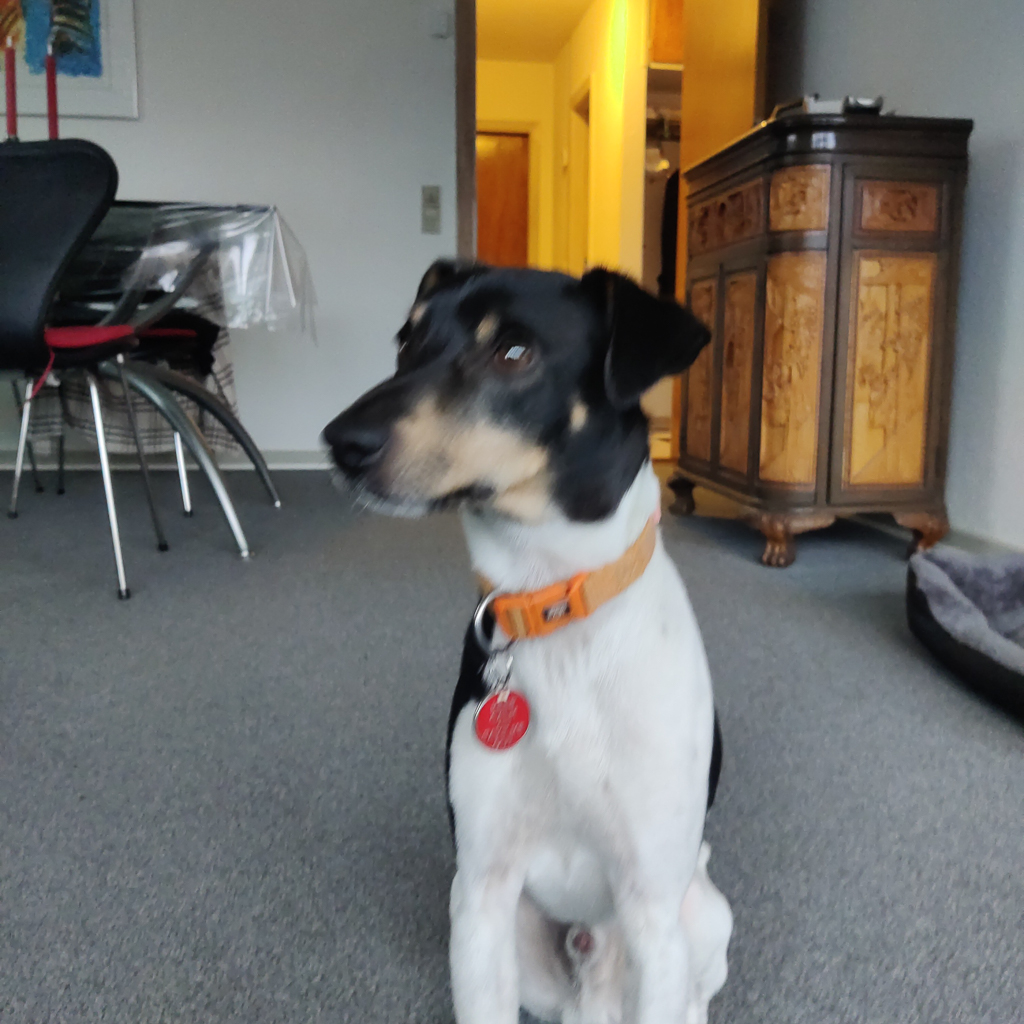Dog: (302, 231, 782, 1024)
